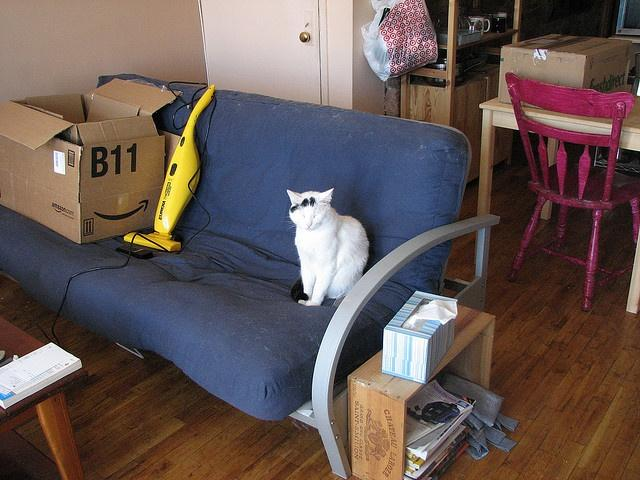Kursi: (503, 71, 639, 312)
